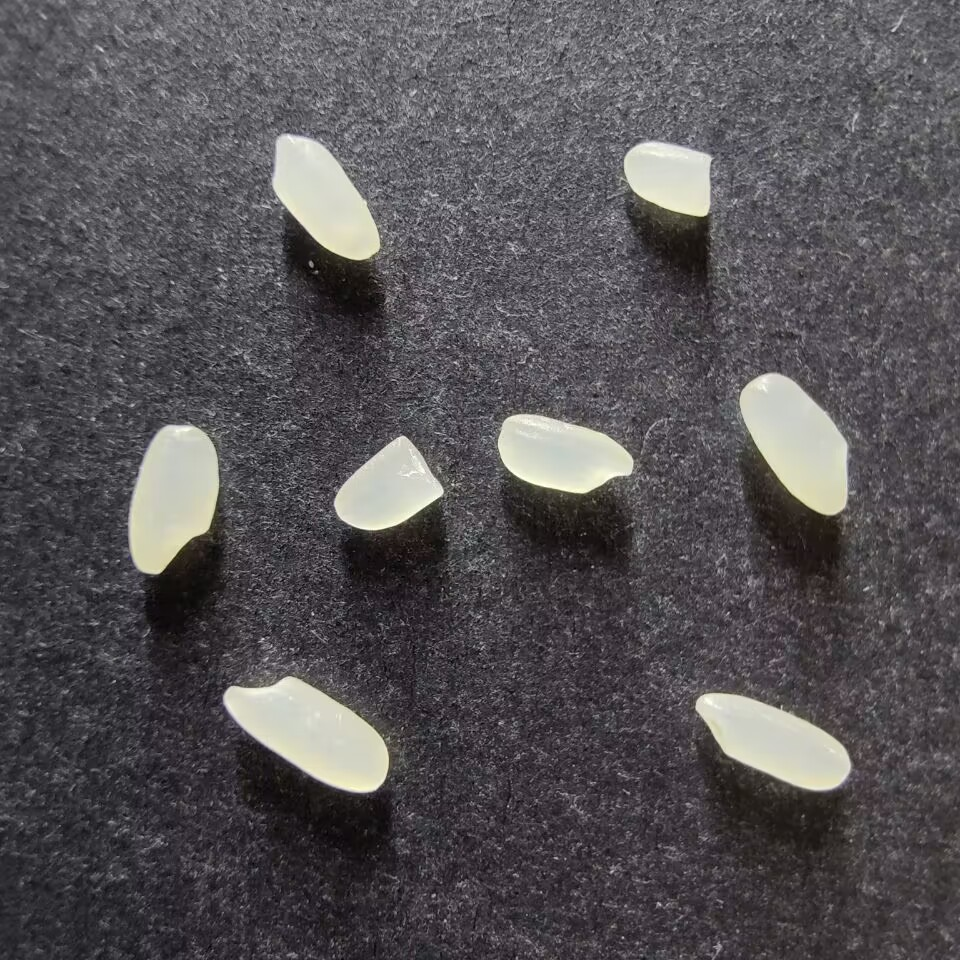broken: (333, 434, 444, 531), (622, 141, 713, 219)
rice: (221, 675, 389, 793), (738, 372, 850, 516), (695, 691, 852, 792), (270, 134, 380, 261), (127, 424, 218, 575), (497, 413, 633, 494)
